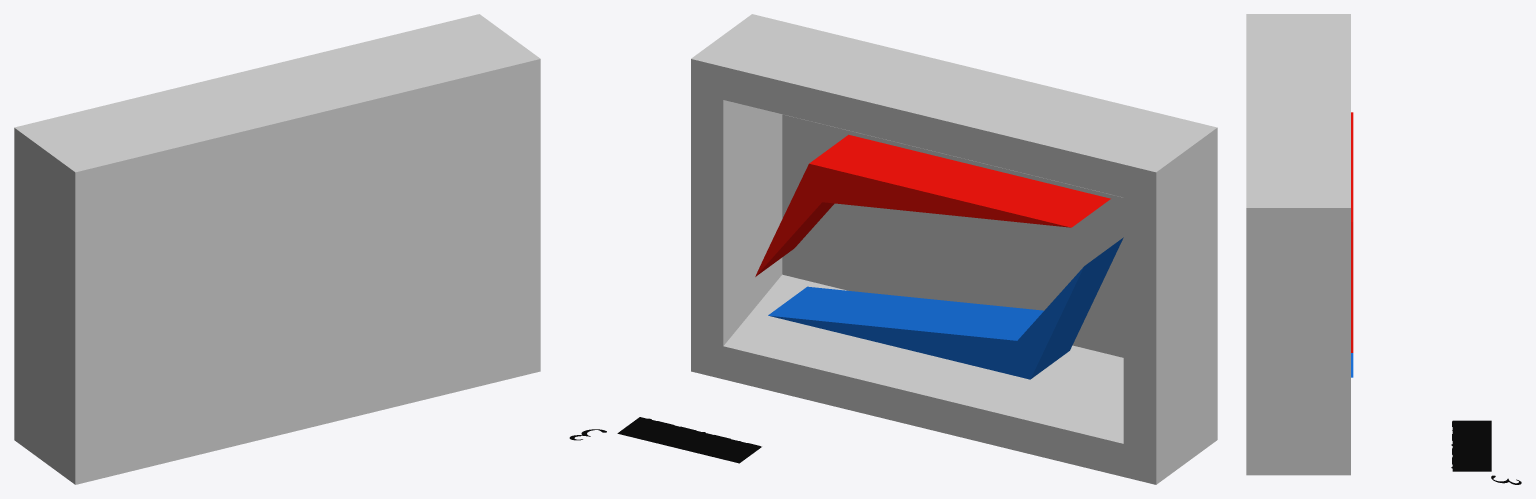
The picture shows the model from 3 angles, left to right: view 1: azimuth 30°, elevation 25°; view 2: azimuth 150°, elevation 25°; view 3: azimuth 270°, elevation 25°; orthographic projection. The views are drawn at different scales.
Visible parts, largest first — view 1: Куб; view 2: Куб, blue, red, Curve; view 3: Куб, Curve, red.
Boxes of the visible parts, box(x1,y1,x2,y2) form: Куб: box(14, 14, 540, 484); Куб: box(691, 14, 1217, 484); blue: box(768, 237, 1123, 379); red: box(755, 134, 1110, 276); Curve: box(617, 417, 761, 463); Куб: box(1246, 14, 1350, 475); Curve: box(1452, 420, 1491, 471); red: box(1351, 112, 1353, 352).
Size of the model in its own units: 0.3273 by 0.2 by 0.1868.
